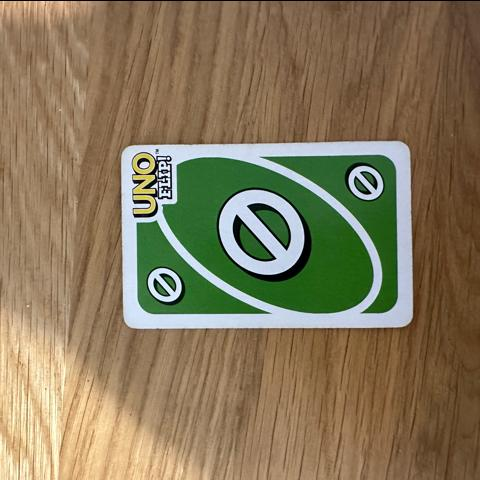lgreenskip-20: (133, 257, 200, 317)
